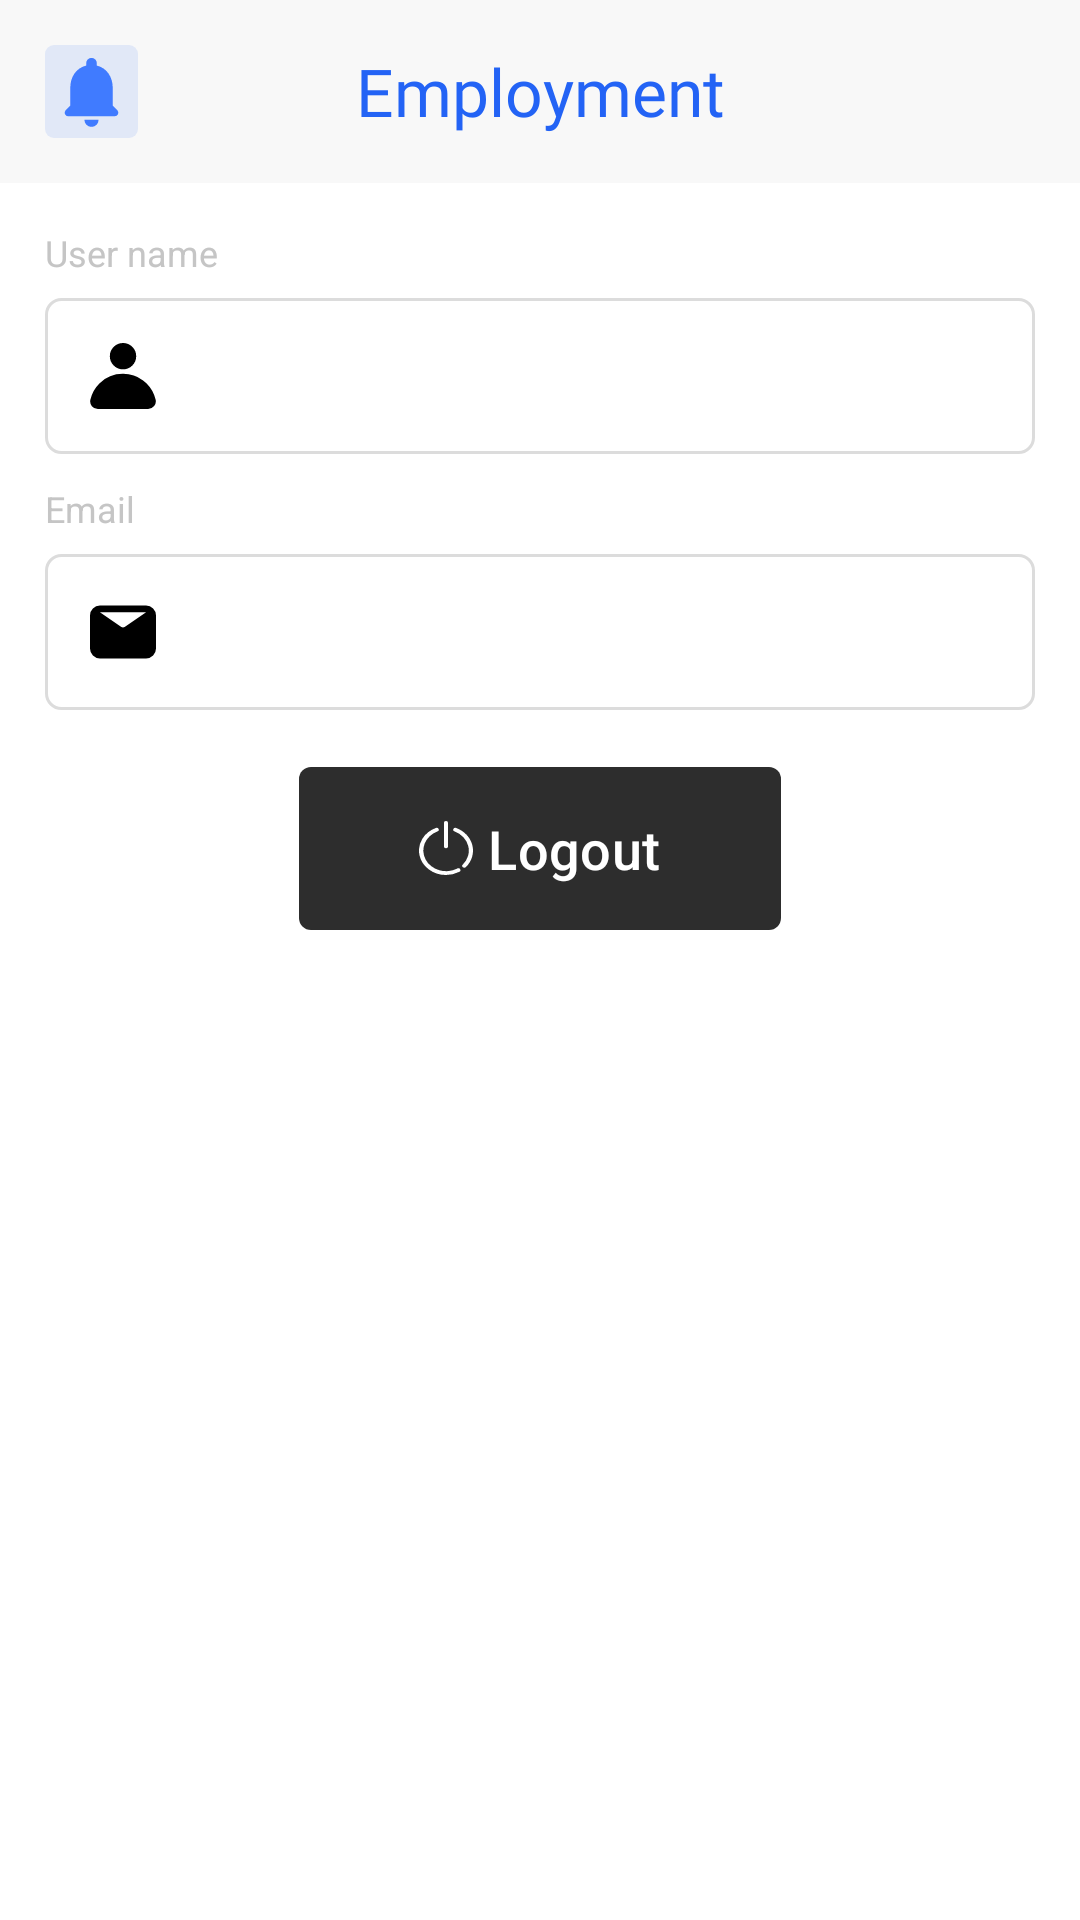

Named icons in this screenshot (1080w x 1920h) and their centers, (x,y):
notification: (91,92)
